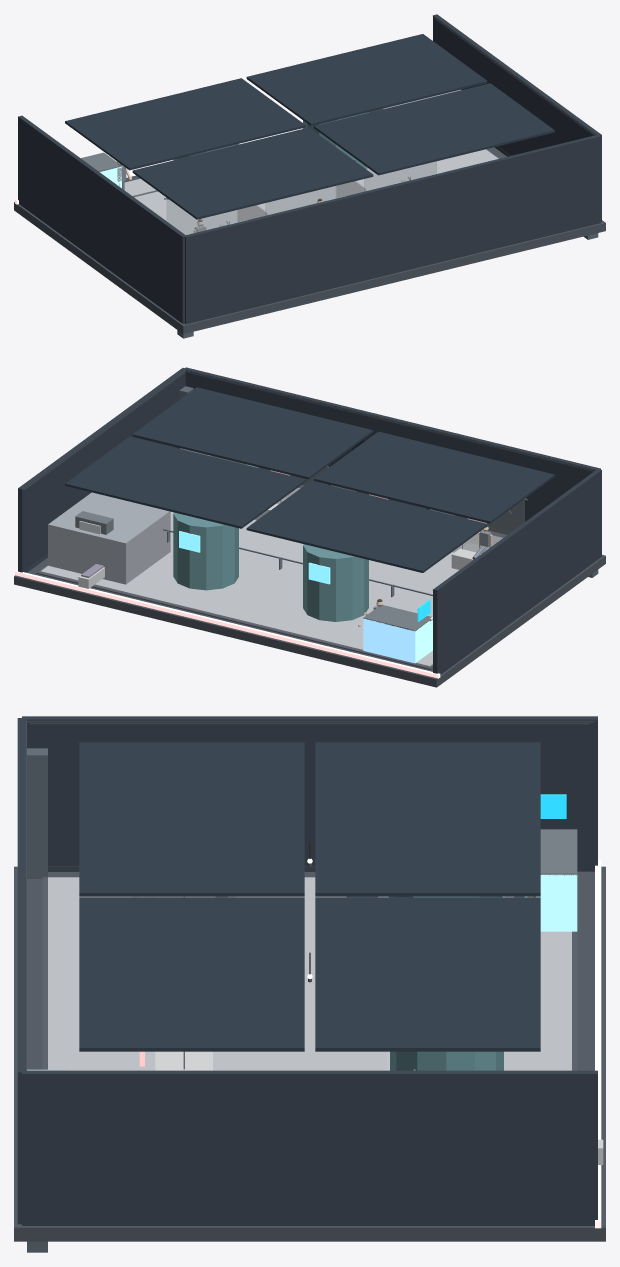
File: floor-commons-clinic.glb
3 views of the same model, one above another, from view 1: azimuth 30°, elevation 25°; view 2: azimuth 150°, elevation 25°; view 3: azimuth 270°, elevation 25° (orthographic). The views are drawn at different scales.
Visible parts, largest first — view 1: WallBack_health, WallL_health, Coffer_-1_-1_health, Coffer_-1_1_health, Coffer_1_1_health, Coffer_1_-1_health, Slab_health, CommonsFloor, WallR_health, Curtain0, Curtain2, Curtain1 (+1 smaller); view 2: WallL_health, CommonsFloor, Coffer_-1_-1_health, Coffer_1_-1_health, Coffer_-1_1_health, Coffer_1_1_health, WallBack_health, AccessWC, WallR_health, Slab_health, TelehealthPod_1, TelehealthPod_0 (+10 smaller); view 3: WallR_health, Coffer_-1_-1_health, Coffer_-1_1_health, Coffer_1_-1_health, Coffer_1_1_health, WallL_health, Slab_health, CommonsFloor, WallBack_health, Post_health_-1, TelehealthPod_1, NurseStation (+7 smaller).
Part boxes in pixels (x1,y1,x2,y2): WallBack_health: [184, 134, 600, 324]; WallL_health: [18, 115, 185, 323]; Coffer_-1_-1_health: [132, 127, 373, 219]; Coffer_-1_1_health: [65, 78, 305, 170]; Coffer_1_1_health: [246, 34, 487, 125]; Coffer_1_-1_health: [314, 83, 554, 175]; Slab_health: [14, 147, 605, 334]; CommonsFloor: [124, 149, 498, 234]; WallR_health: [433, 14, 601, 221]; Curtain0: [167, 199, 239, 234]; Curtain2: [364, 161, 436, 190]; Curtain1: [265, 185, 337, 214]; WallL_health: [433, 469, 601, 674]; CommonsFloor: [40, 488, 502, 666]; Coffer_-1_-1_health: [314, 431, 554, 523]; Coffer_1_-1_health: [132, 387, 373, 479]; Coffer_-1_1_health: [246, 481, 487, 572]; Coffer_1_1_health: [65, 436, 305, 528]; WallBack_health: [184, 367, 600, 532]; AccessWC: [48, 492, 170, 584]; WallR_health: [18, 368, 185, 572]; Slab_health: [14, 485, 605, 687]; TelehealthPod_1: [173, 512, 238, 590]; TelehealthPod_0: [303, 544, 368, 621]; WallR_health: [22, 1070, 597, 1225]; Coffer_-1_-1_health: [79, 742, 304, 896]; Coffer_-1_1_health: [315, 742, 540, 896]; Coffer_1_-1_health: [79, 897, 304, 1051]; Coffer_1_1_health: [315, 897, 540, 1051]; WallL_health: [22, 716, 597, 871]; Slab_health: [14, 866, 605, 1241]; CommonsFloor: [48, 877, 571, 1070]; WallBack_health: [17, 718, 25, 1224]; Post_health_-1: [27, 748, 47, 878]; TelehealthPod_1: [390, 1051, 503, 1070]; NurseStation: [525, 874, 577, 931].
Bounding box in the file's own units: 16.32 × 3.8 × 11.3.
